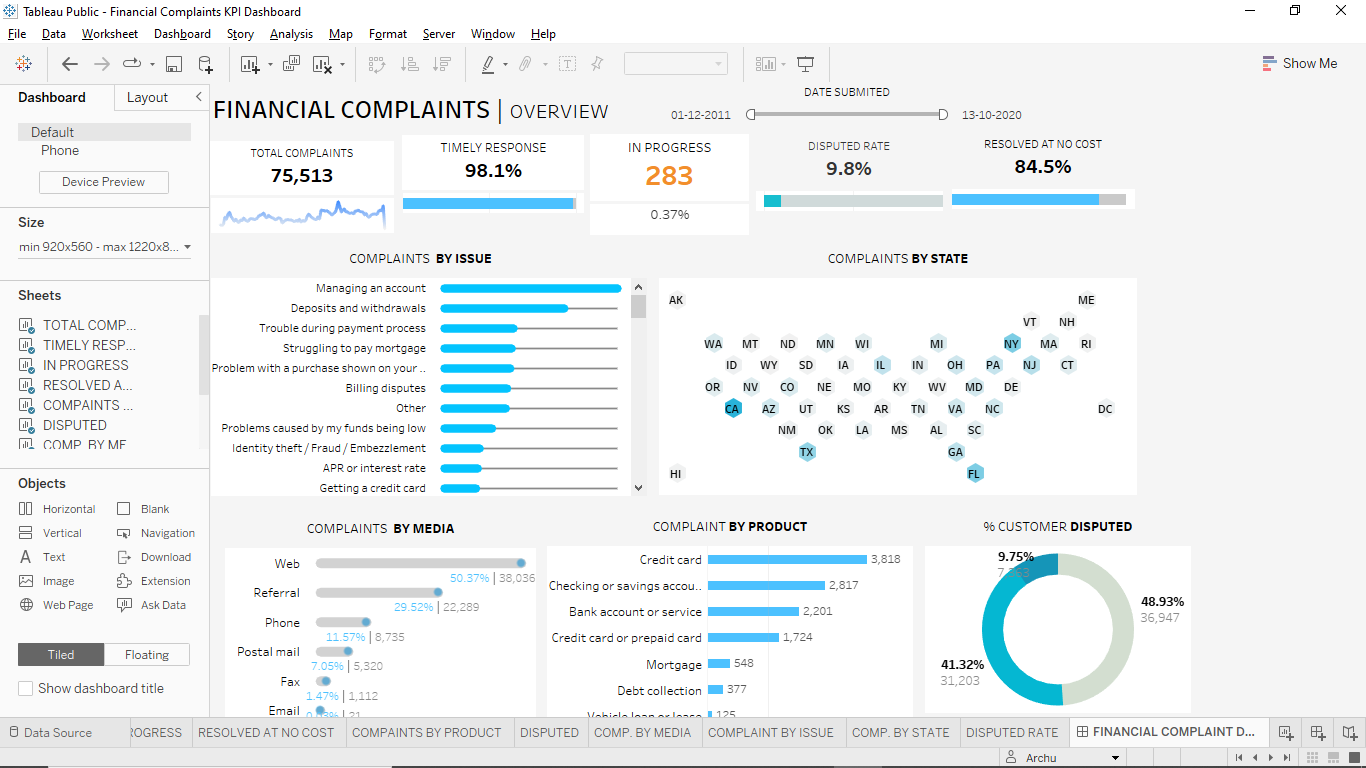

What the dashboard file says about the page in this screenshot:
{"tool":"tableau","page":{"name":"FINANCIAL COMPLAINT DASHBOARD","canvas":[1000,1000],"units":"permille","ordinal":0},"visuals":[{"type":"text","box":[0,0,805.3,77.5]},{"type":"filter","title":"COMPLAINT BY ISSUE","param":"[federated.02quzkx0yzok0a19ngiqy0fei3s4].[none:Date Sumbited:qk]","box":[388.5,0,325.6,71.2]},{"type":"worksheet","title":"RESOLVED AT NO COST","mark":"Automatic","box":[641.7,76,159.3,158.2]},{"type":"worksheet","title":"IN PROGRESS","mark":"Automatic","box":[329.3,79.1,137.3,159.8]},{"type":"worksheet","title":"DISPUTED RATE","mark":"Bar","box":[472,79.1,162.8,159.8]},{"type":"worksheet","title":"TIMELY RESPONSE","mark":"Bar","box":[165.9,80.7,158.1,155.1]},{"type":"worksheet","title":"TOTAL COMPLAINTS","mark":"Automatic","rows":["Financial Consumer Complaints.csv_0B4714C0F03B49E292065B9A99"],"cols":["Date Sumbited"],"box":[0,90.2,159,145.6]},{"type":"worksheet","title":"COMPLAINT BY ISSUE","mark":"Automatic","rows":["Issue"],"cols":["Calculation_341429204760834062"],"box":[0.9,254.8,377.1,397.2]},{"type":"worksheet","title":"COMP. BY STATE","mark":"Automatic","rows":["Row"],"cols":["Column"],"box":[387.5,254.8,415.3,395.6]},{"type":"worksheet","title":"DISPUTED","mark":"Pie","rows":["Calculation_341429204409339913","Calculation_341429204409380875"],"box":[619.5,678.8,230.2,316.5]}]}

Visuals, with their boxes on the dashboard's canvas, which has no fixed pixel size, in thousandths of its width and height (x1, y1, x2, y2). These are canvas units, not pixel positions in the 1366x768 screenshot, which may show the page scaled, cropped or inside an application window:
text: <box>0,0,805,78</box>
"COMPLAINT BY ISSUE" filter: <box>388,0,714,71</box>
"RESOLVED AT NO COST" worksheet: <box>642,76,801,234</box>
"IN PROGRESS" worksheet: <box>329,79,467,239</box>
"DISPUTED RATE" worksheet (Bar marks): <box>472,79,635,239</box>
"TIMELY RESPONSE" worksheet (Bar marks): <box>166,81,324,236</box>
"TOTAL COMPLAINTS" worksheet: <box>0,90,159,236</box>
"COMPLAINT BY ISSUE" worksheet: <box>1,255,378,652</box>
"COMP. BY STATE" worksheet: <box>388,255,803,650</box>
"DISPUTED" worksheet (Pie marks): <box>620,679,850,995</box>
